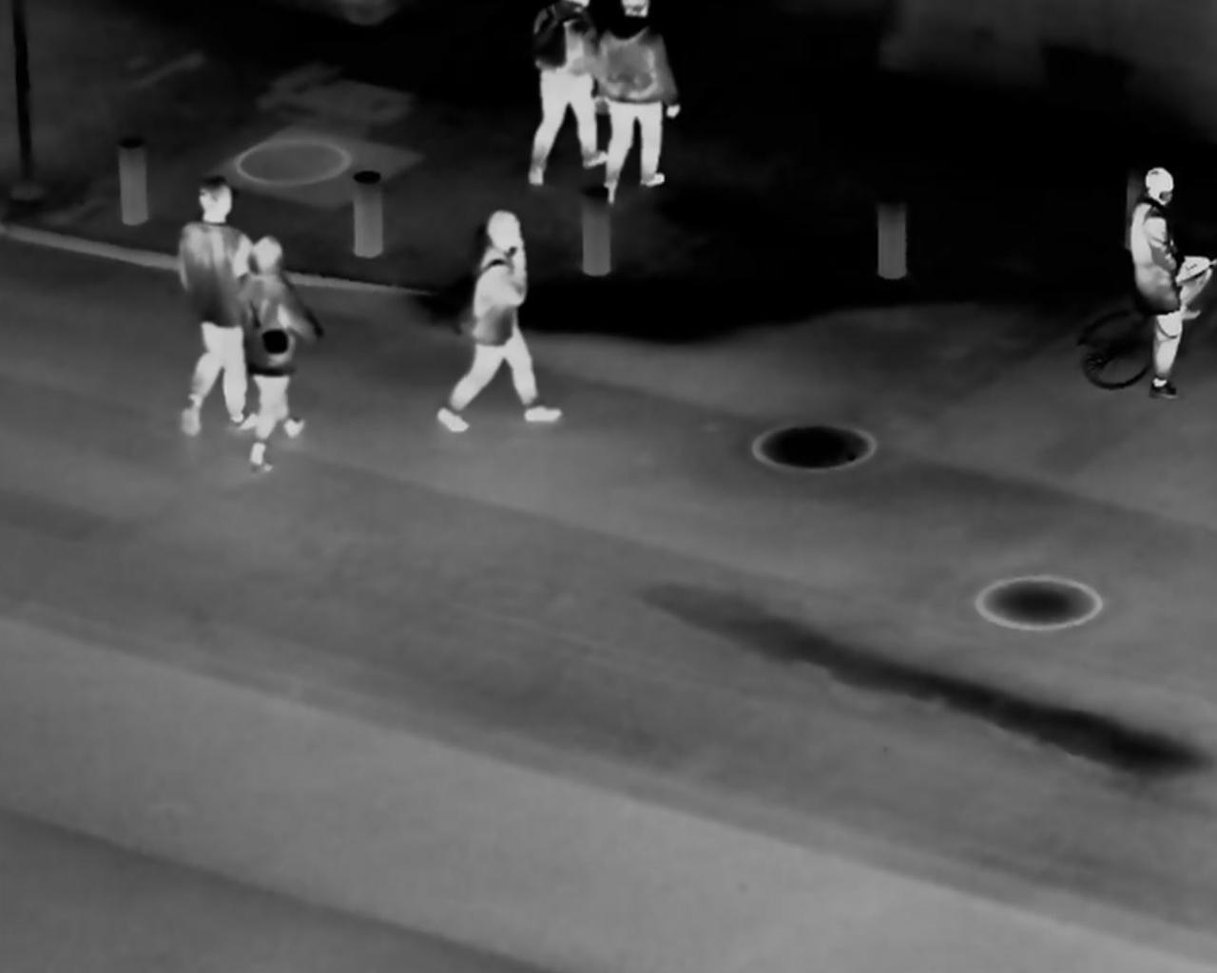person: (443, 205, 561, 450), (1115, 143, 1214, 411), (169, 166, 256, 440), (239, 234, 319, 475), (593, 4, 678, 210), (527, 4, 608, 186)
